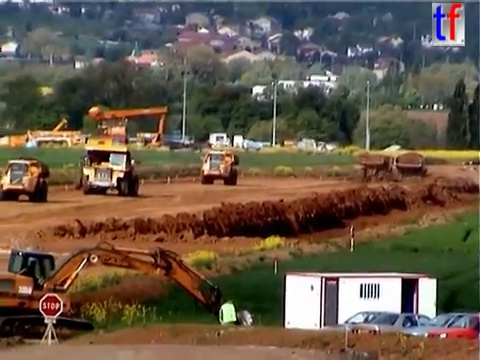crane: (86, 103, 169, 149)
excavator: (1, 238, 253, 346)
motor grader: (75, 152, 119, 192)
truck: (79, 147, 139, 197), (1, 155, 50, 204), (198, 147, 239, 186), (355, 151, 394, 181), (395, 151, 428, 181)
worker: (214, 294, 239, 337)
